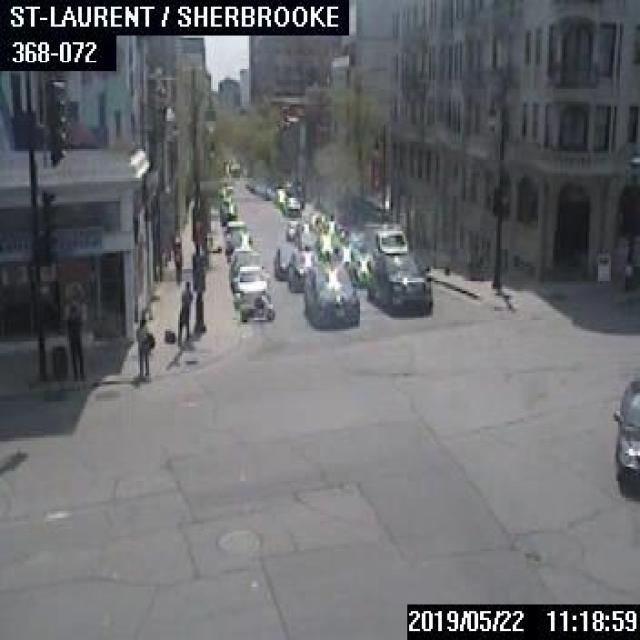pedestrian: (62, 302, 85, 380), (134, 318, 152, 376), (175, 279, 191, 343), (172, 245, 180, 279)
vehicle: (364, 252, 431, 312), (302, 258, 358, 324), (609, 376, 638, 486), (230, 263, 270, 302), (286, 250, 319, 290), (365, 225, 408, 255), (230, 290, 274, 318), (229, 251, 261, 284), (272, 245, 300, 276), (222, 220, 250, 249), (230, 231, 256, 261), (283, 218, 299, 237), (284, 196, 299, 213)
